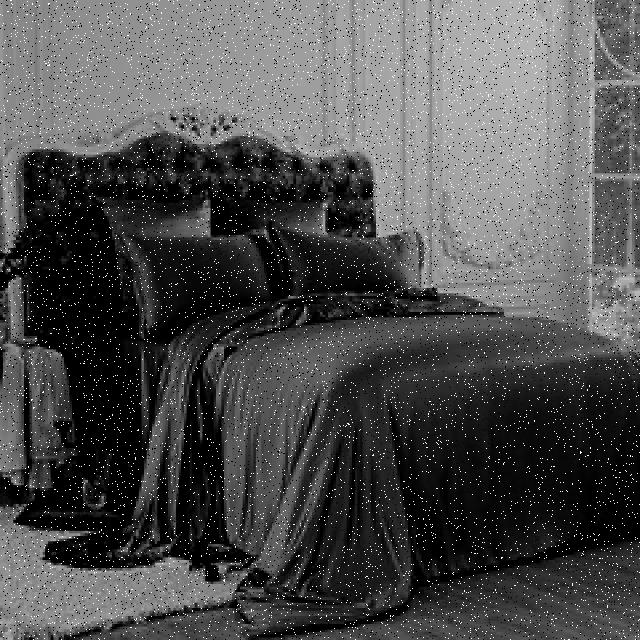bed: (22, 108, 635, 583)
